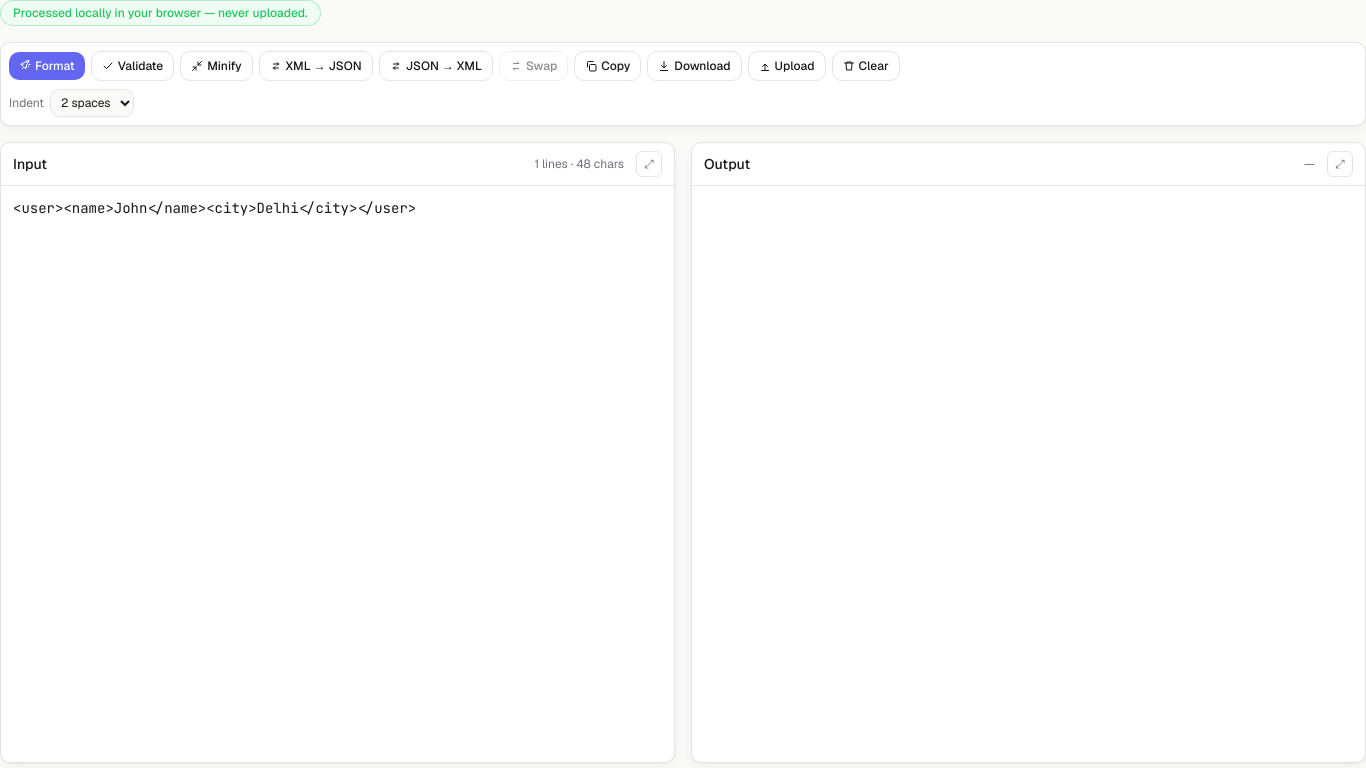
Test: XmlTool › shows error for invalid XML on Validate
The image size is (1366, 768).
Clear the text box named "input" at (338, 474), box [1, 186, 674, 762]
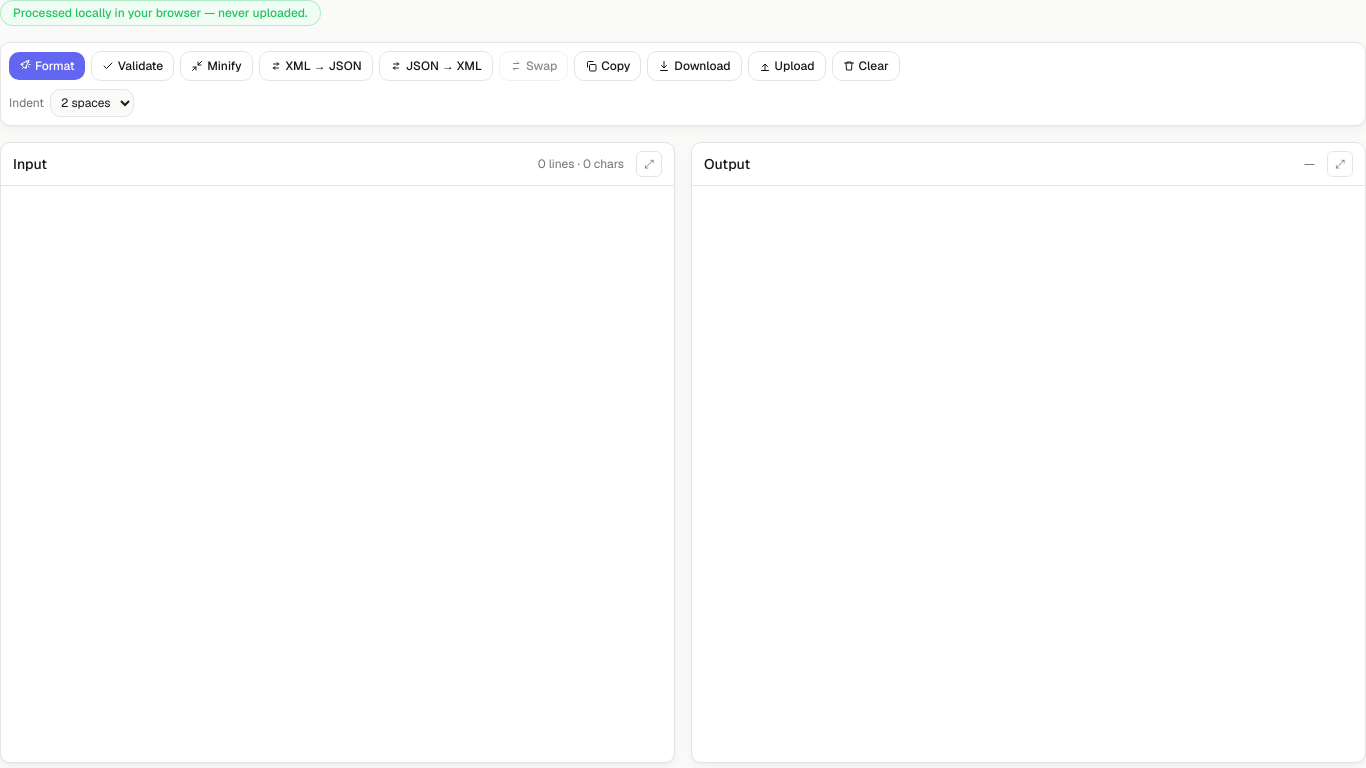
Type keys "<a><b></a>"
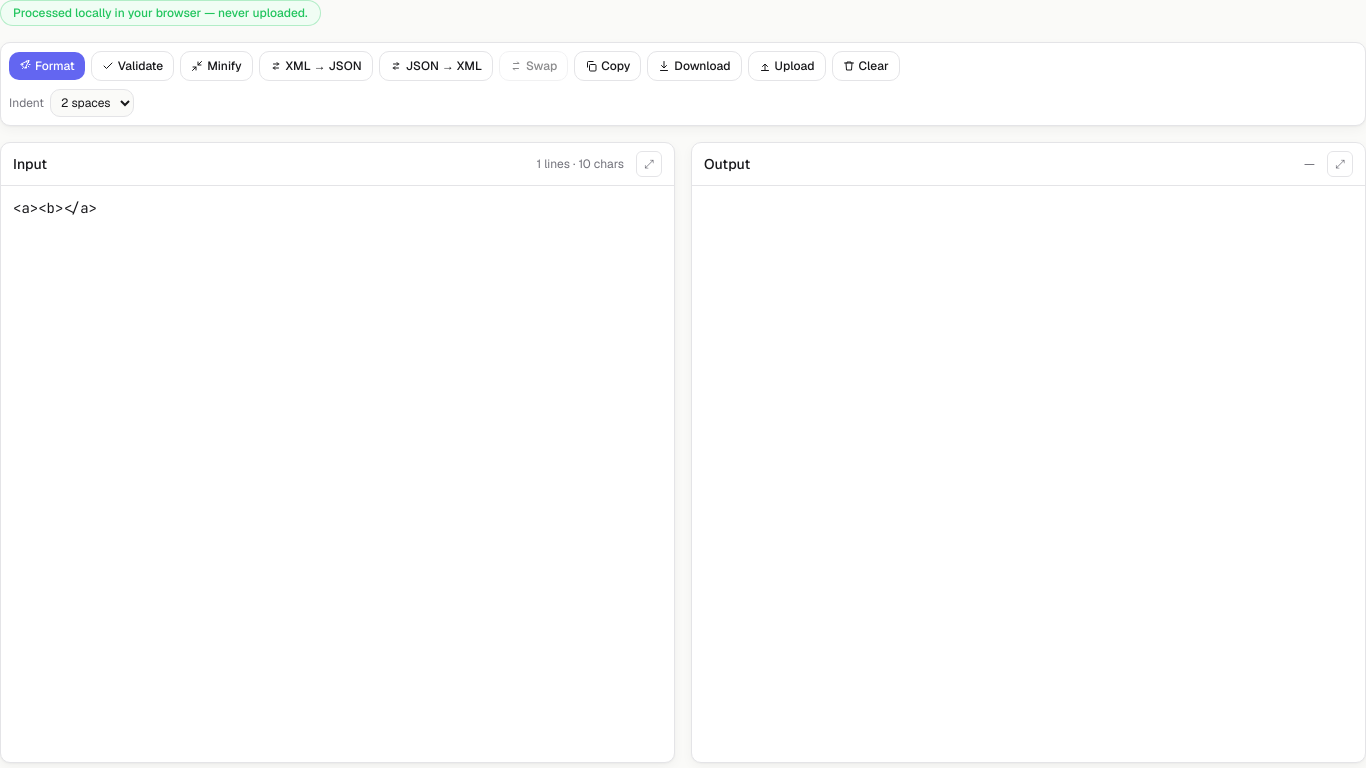
Click the button "Validate" at (132, 66), box [91, 51, 174, 81]
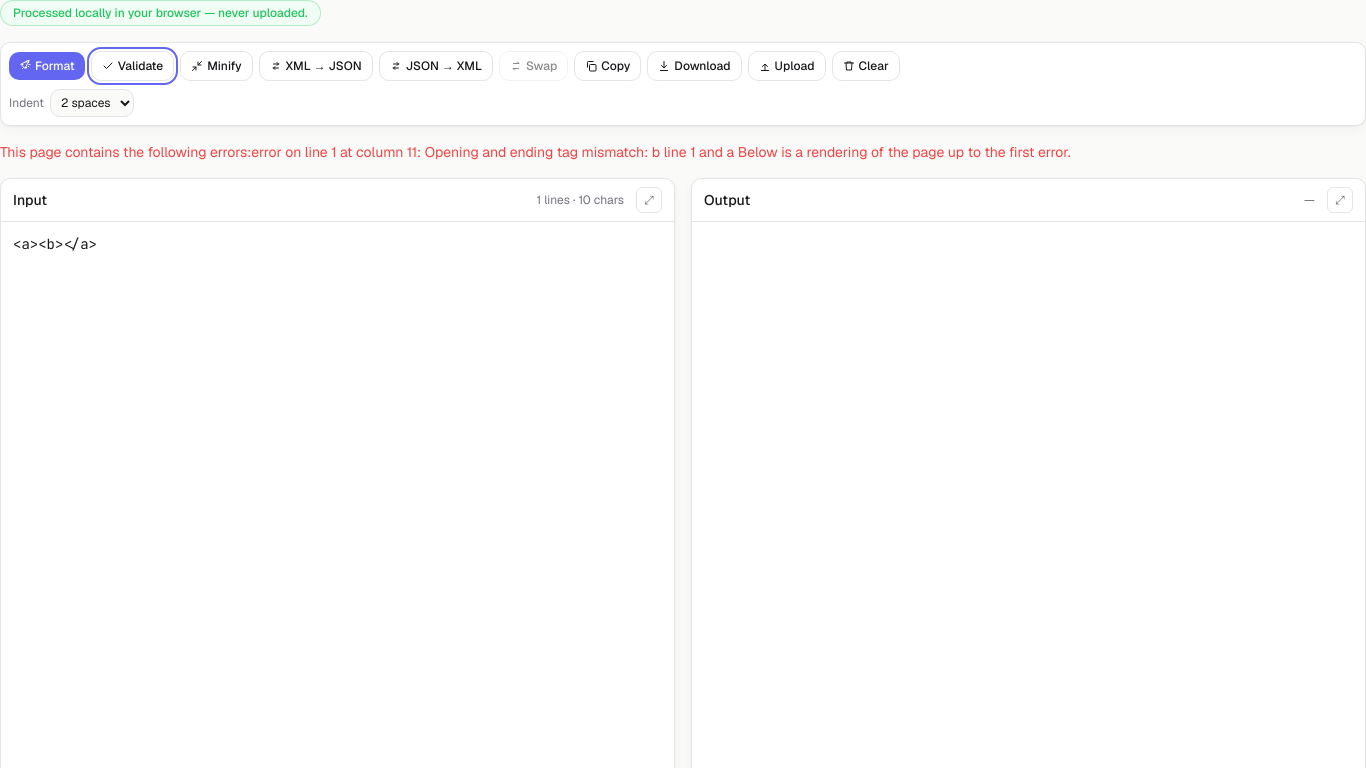
Now the message is shown, box [0, 143, 1070, 161]
